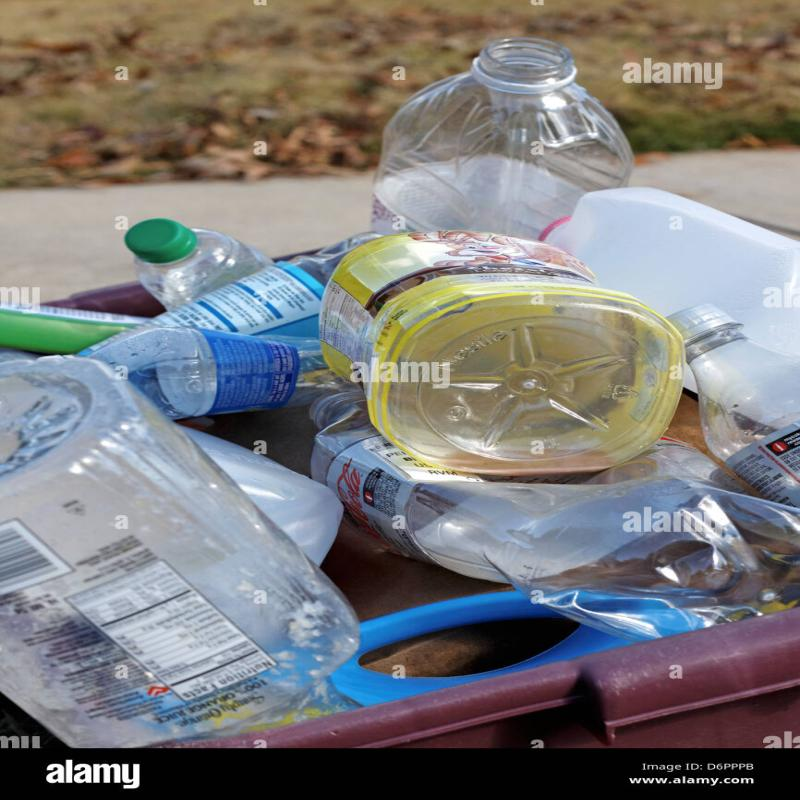botella: (327, 229, 681, 471), (368, 40, 658, 248), (671, 303, 800, 500), (143, 236, 370, 342), (117, 216, 291, 314)
